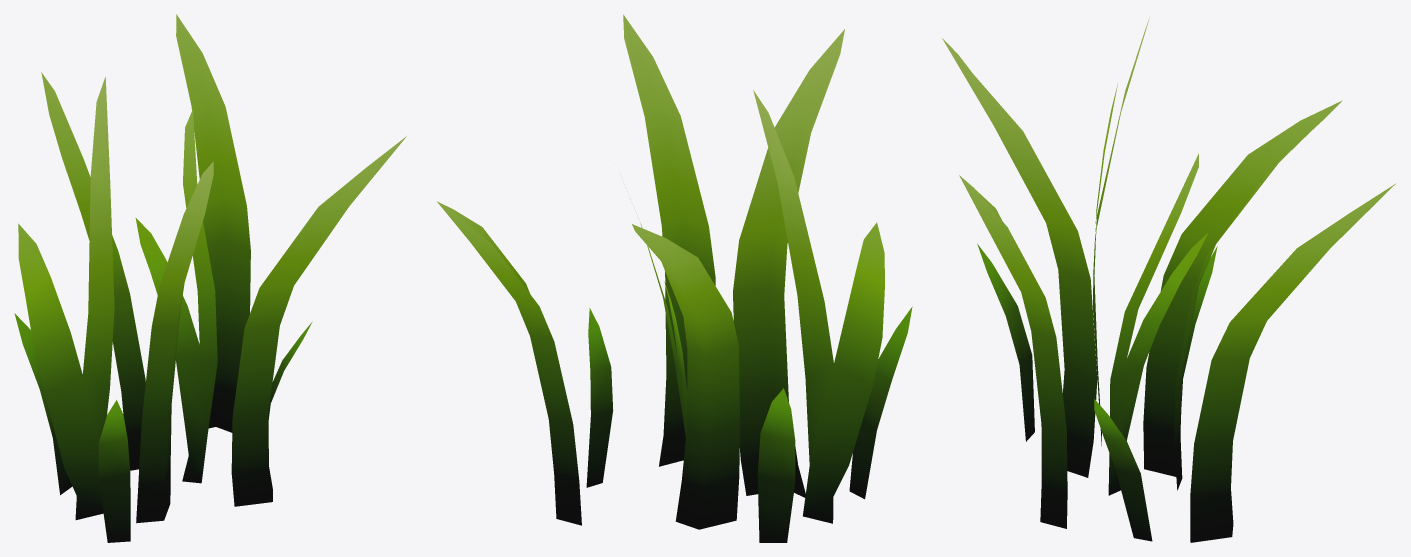
Rendered from grass.glb.
The picture shows the model from 3 angles, left to right: view 1: azimuth 30°, elevation 25°; view 2: azimuth 150°, elevation 25°; view 3: azimuth 270°, elevation 25°; orthographic projection. The views are drawn at different scales.
Parts seen in each view (by area): view 1: Grass_Common_Short; view 2: Grass_Common_Short; view 3: Grass_Common_Short.
Part boxes in pixels (box(x1,y1,x2,y2)): Grass_Common_Short: box(14, 14, 406, 542); Grass_Common_Short: box(437, 14, 912, 542); Grass_Common_Short: box(942, 17, 1395, 542).
Bounding box in the file's own units: 0.6389 × 0.8005 × 0.7373.
Materials: 1 (1 with a texture image).
